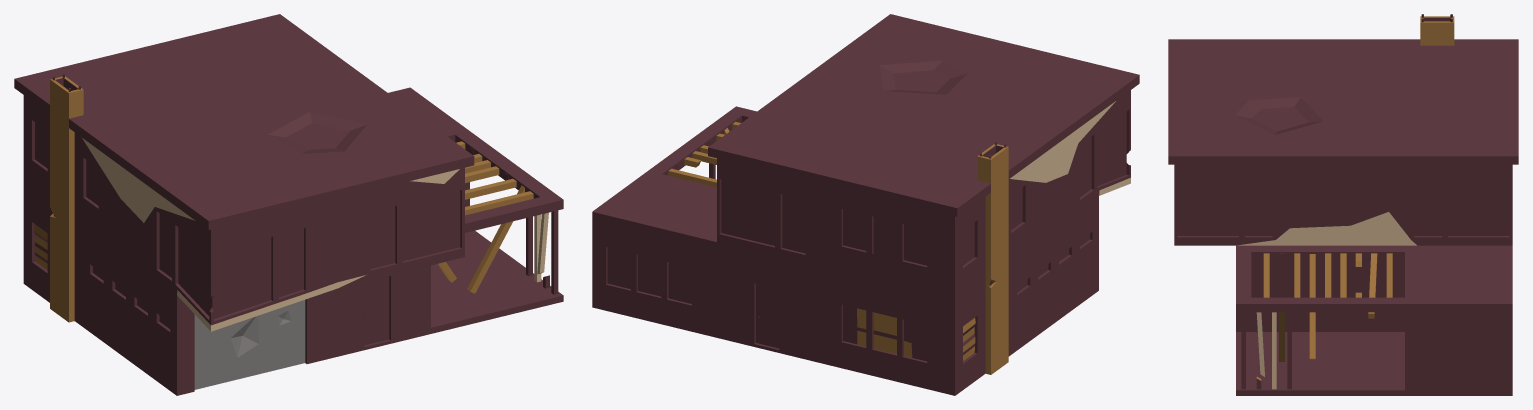
File: building-house-modern-apocalypse-b.fbx
The picture shows the model from 3 angles, left to right: view 1: azimuth 30°, elevation 25°; view 2: azimuth 150°, elevation 25°; view 3: azimuth 270°, elevation 25°; orthographic projection. The views are drawn at different scales.
Visible parts, largest first — view 1: building-house-modern-apocalypse-b; view 2: building-house-modern-apocalypse-b; view 3: building-house-modern-apocalypse-b.
Boxes of the visible parts, bbox=[...] form: building-house-modern-apocalypse-b: bbox=[14, 14, 563, 395]; building-house-modern-apocalypse-b: bbox=[592, 14, 1139, 395]; building-house-modern-apocalypse-b: bbox=[1168, 14, 1518, 395].
Bounding box in the file's own units: 13.3 × 7.53 × 11.4.
